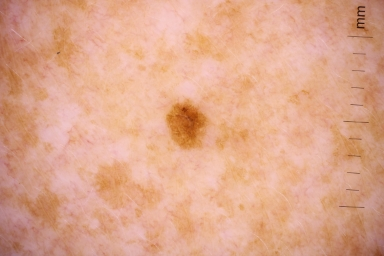melanoma: (168, 104, 211, 144)
